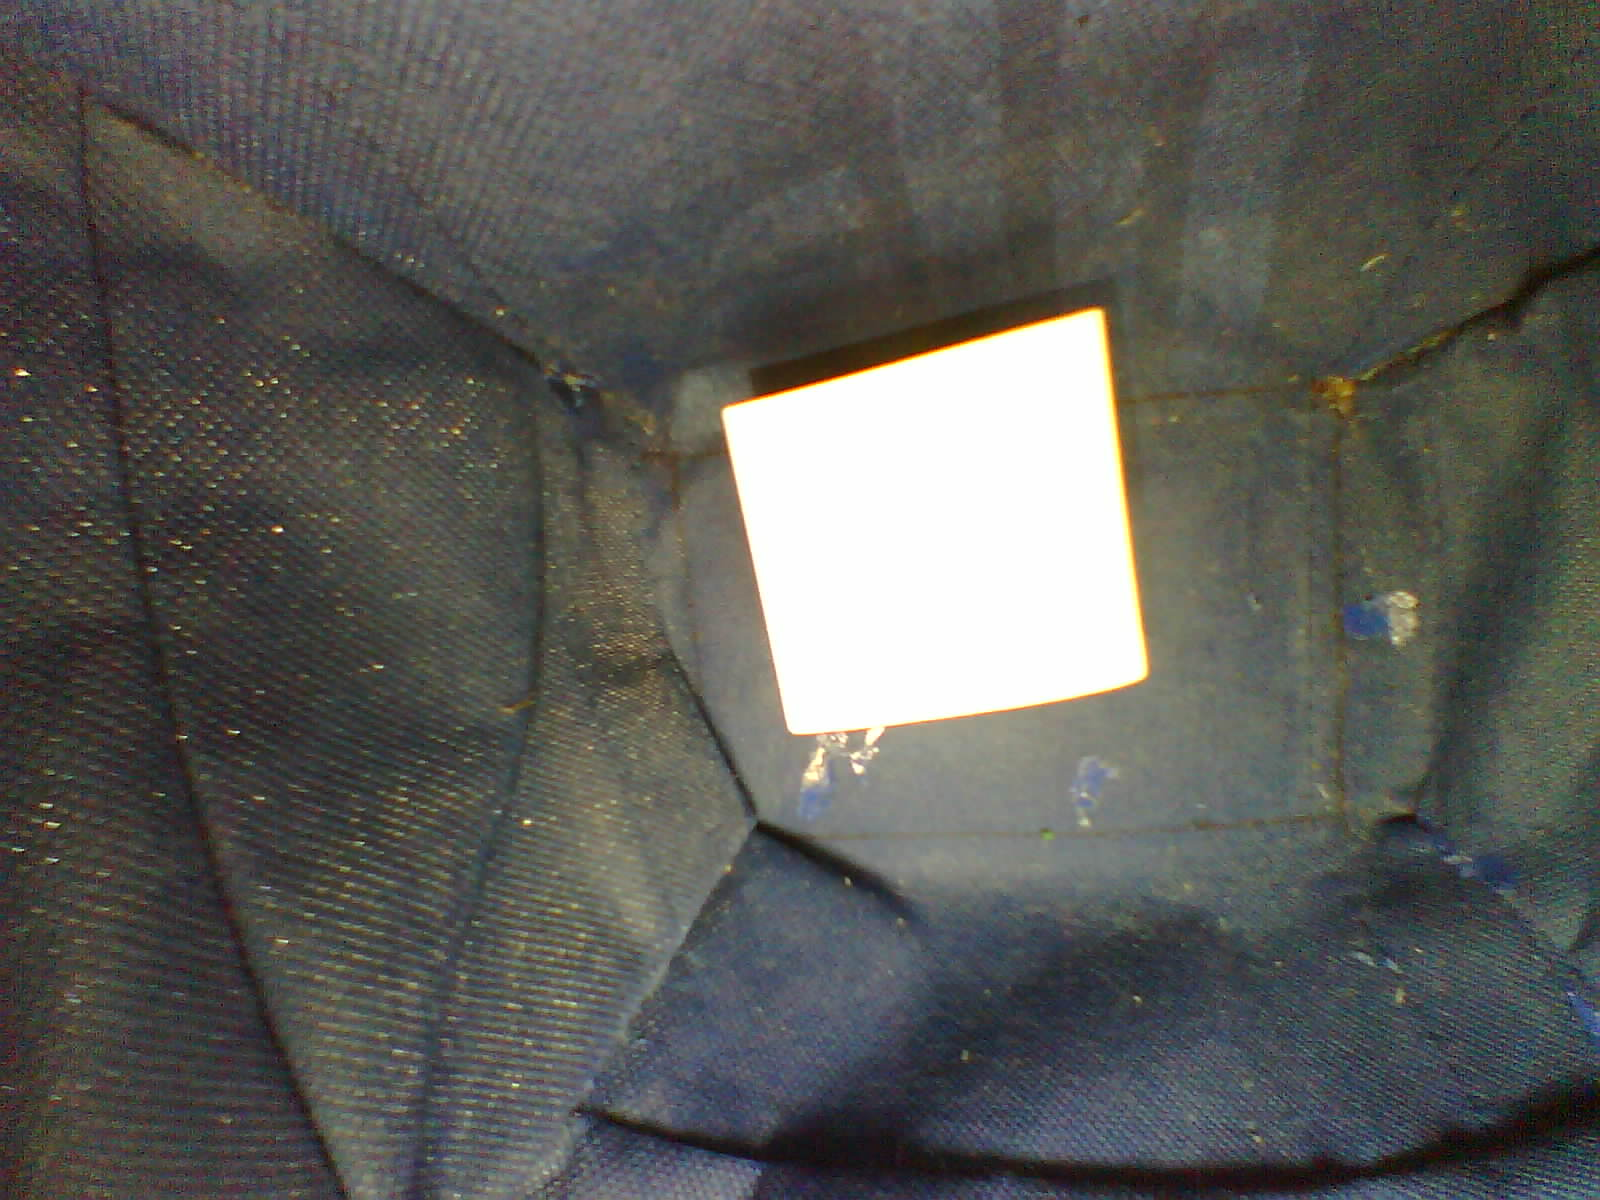cube-hard: (697, 292, 1169, 754)
